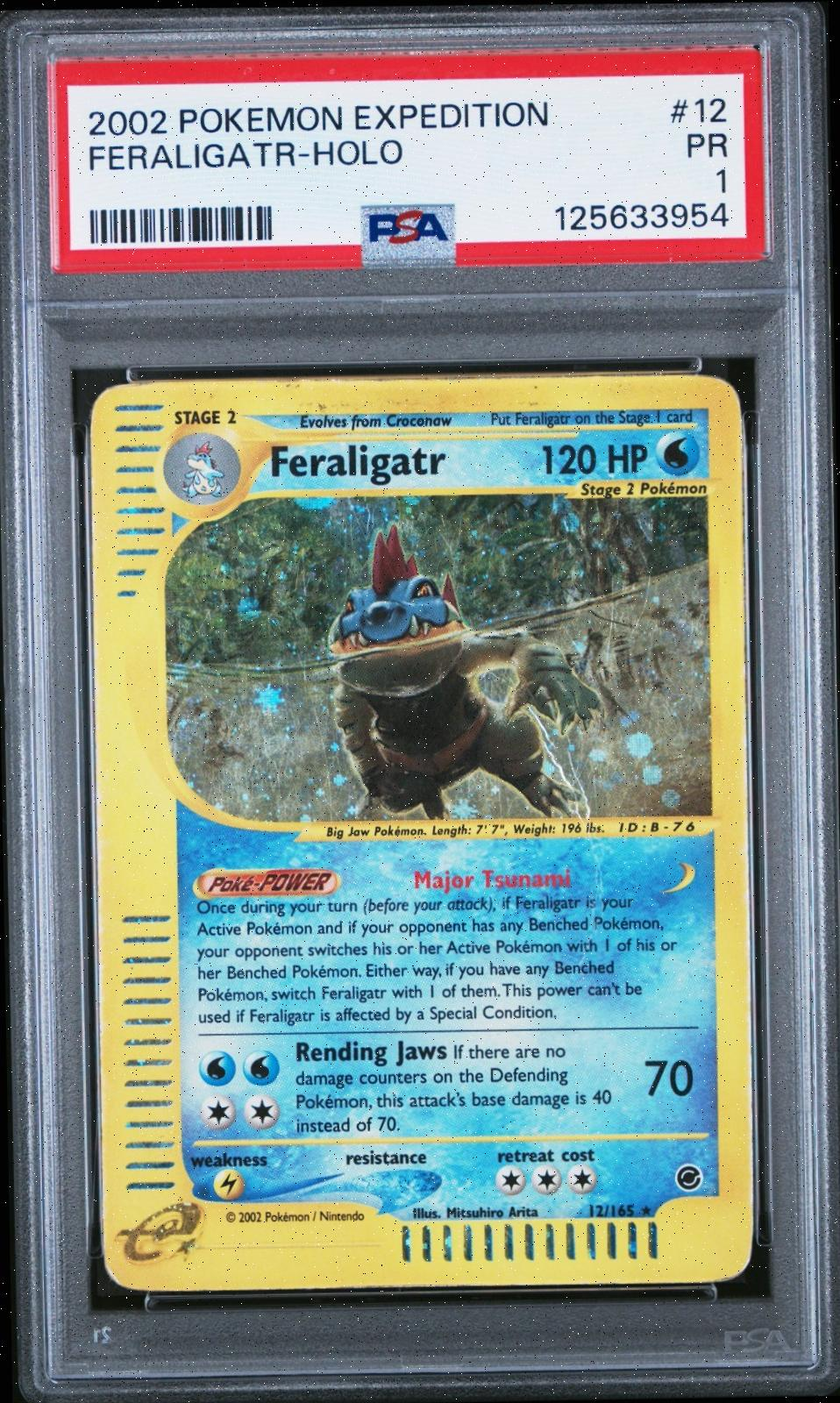card-2UtV: (89, 373, 753, 1292)
